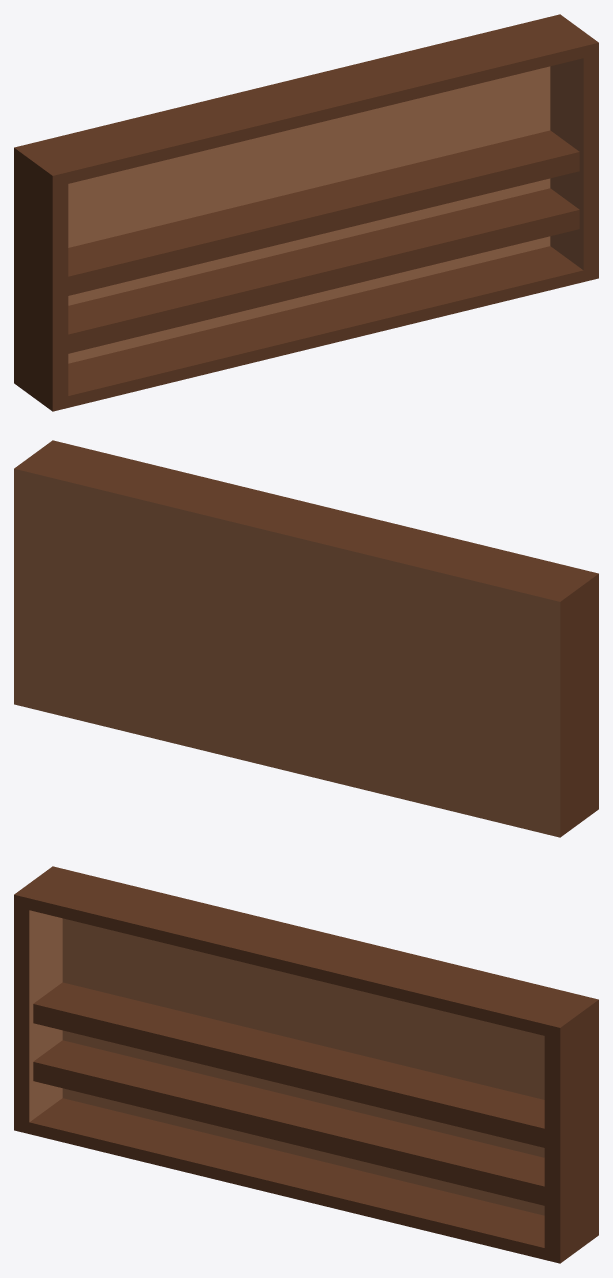
File: Shelf.fbx
3 views of the same model, one above another, from view 1: azimuth 30°, elevation 25°; view 2: azimuth 150°, elevation 25°; view 3: azimuth 330°, elevation 25° (orthographic).
Visible parts, largest first — view 1: Shelving; view 2: Shelving; view 3: Shelving.
Boxes of the visible parts, bbox=[...] form: Shelving: bbox=[14, 14, 598, 411]; Shelving: bbox=[14, 440, 598, 837]; Shelving: bbox=[14, 866, 598, 1263].
Bounding box in the file's own units: 4.63 × 1.91 × 0.5697.
